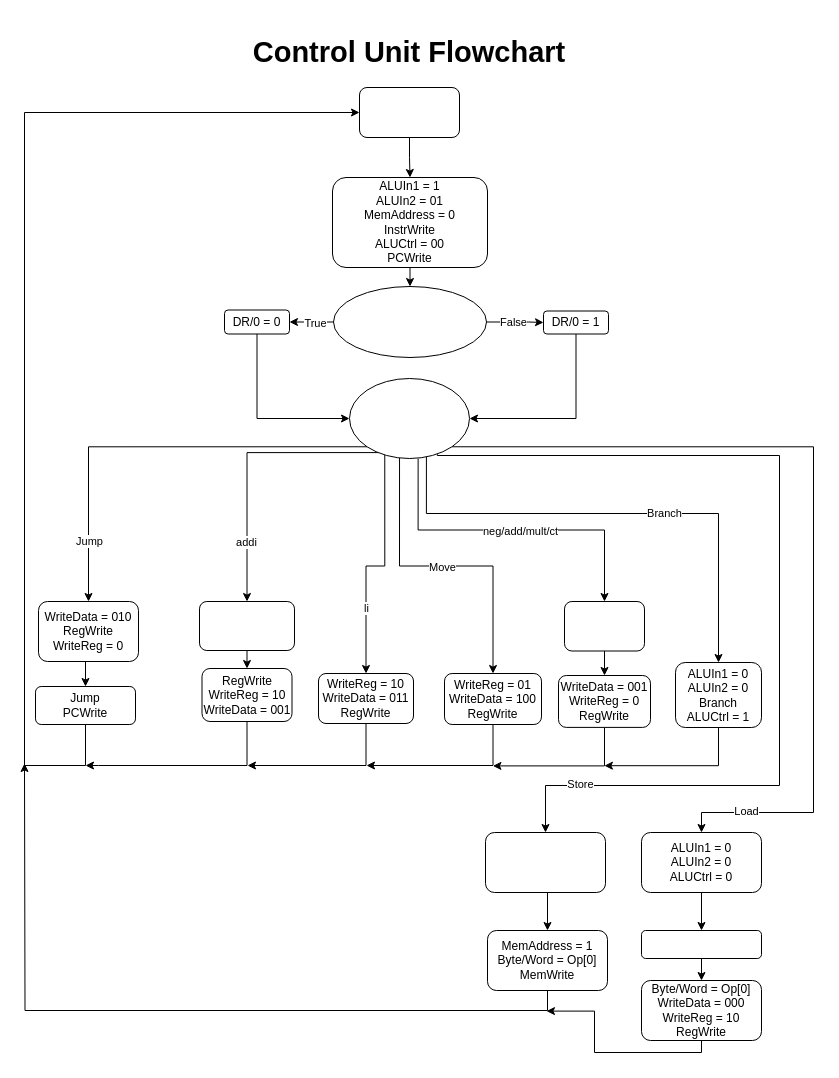
Image size: 839x1078. Some labels were removed from this diagram. The shapes that lost their labels are listed below. From the top down, each one's centre as x and y in pixels, then its label:
(409,112): Start
(409,322): Op = "add", "mult", "addi", "beq", "bne", or "blt"?
(409,418): Opcode Select
(246,625): ALUIn1 = 0 ALUIn2 = 11 ALUCtrl = 0
(604,625): ALUIn1 = 0 ALUIn2 = 0 ALUCtrl = 1
(545,862): ALUIn1 = 0 ALUIn2 = 0 ALUCtrl = 0 DR/0 = 0
(701,944): MemAddress = 1
